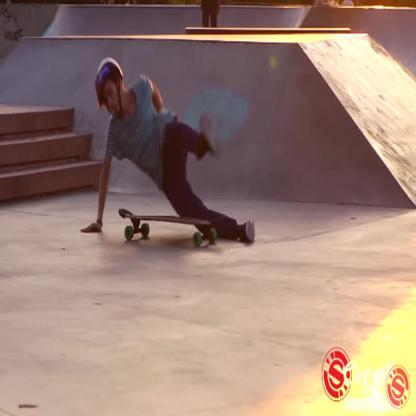Fall_Down: (79, 56, 257, 245)
